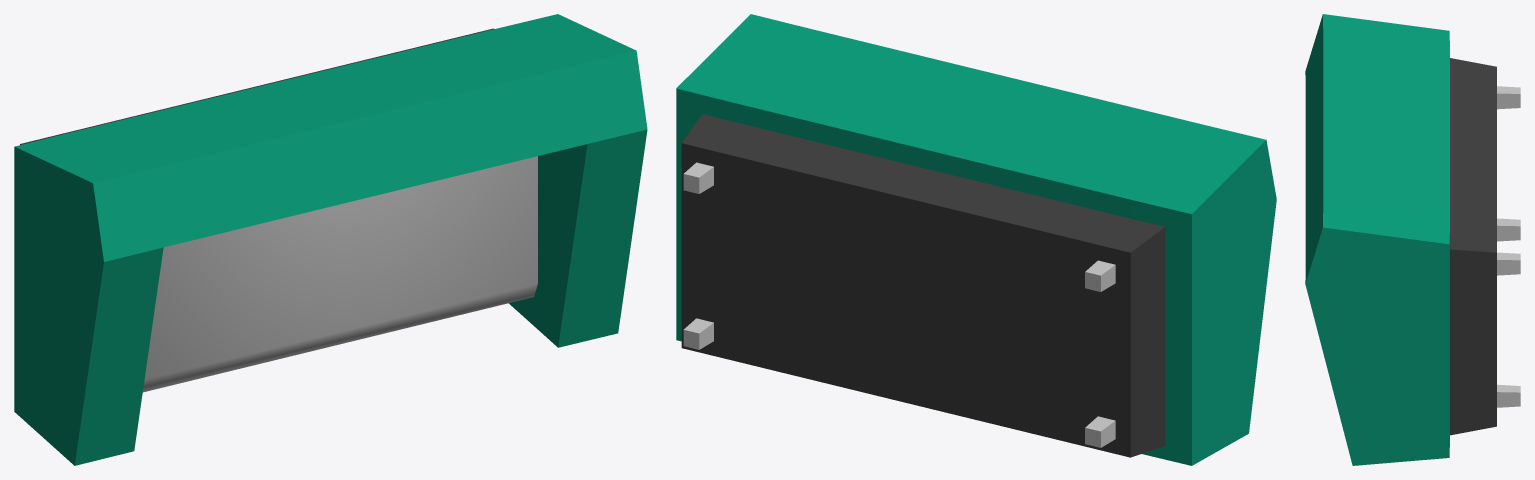
The model's file is Sofa_2.obj.
3 views of the same model, side by side, from view 1: azimuth 30°, elevation 25°; view 2: azimuth 150°, elevation 25°; view 3: azimuth 270°, elevation 25° (orthographic). The views are drawn at different scales.
Parts seen in each view (by area): view 1: Sofa_2; view 2: Sofa_2; view 3: Sofa_2.
Part boxes in pixels (box(x1,y1,x2,y2)): Sofa_2: box(14, 14, 647, 465); Sofa_2: box(676, 14, 1276, 465); Sofa_2: box(1305, 14, 1520, 465).
Bounding box in the file's own units: 1.8 × 0.9356 × 0.7648.
